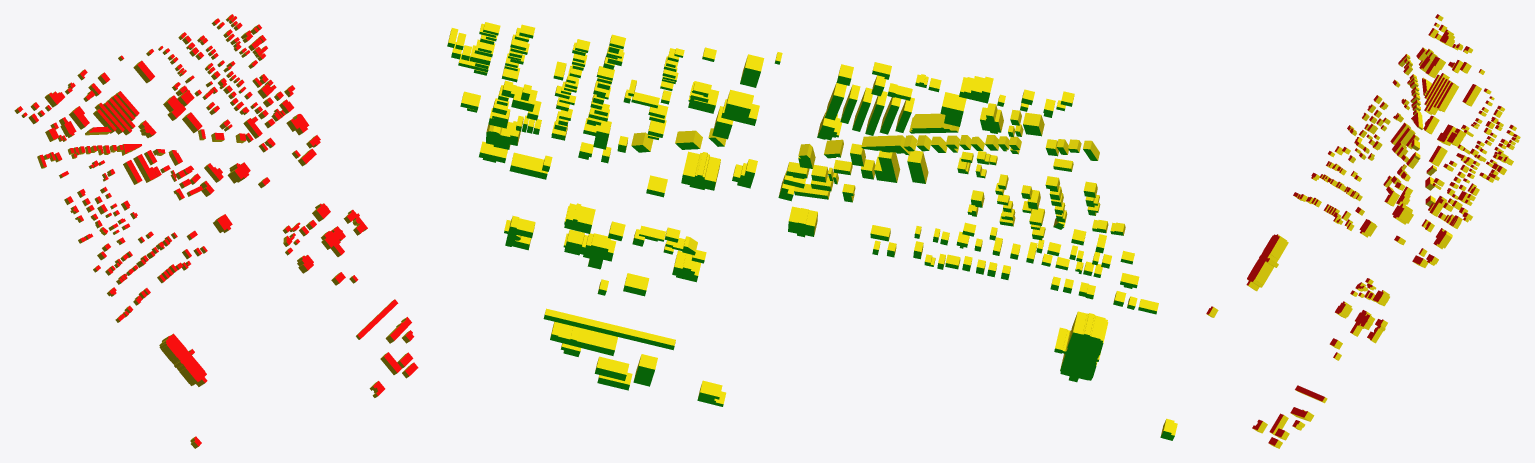
The picture shows the model from 3 angles, left to right: view 1: azimuth 30°, elevation 25°; view 2: azimuth 150°, elevation 25°; view 3: azimuth 270°, elevation 25°; orthographic projection. The views are drawn at different scales.
Parts seen in each view (by area): view 1: mesh; view 2: mesh; view 3: mesh.
Boxes of the visible parts, x1,y1,x2,y2 form: mesh: (14, 14, 418, 448); mesh: (447, 22, 1177, 440); mesh: (1206, 14, 1520, 448).
Bounding box in the file's own units: 902 × 775 × 749.
